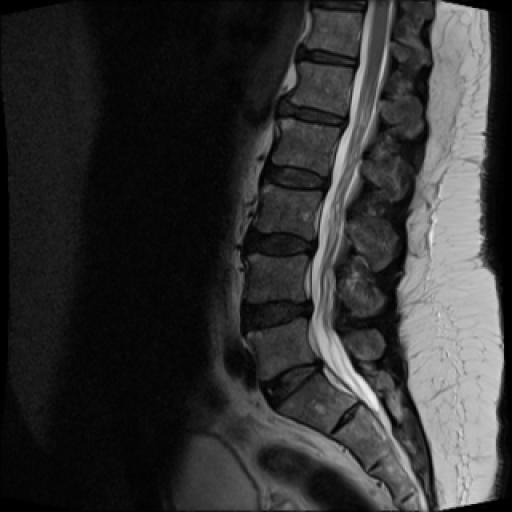L1: (288, 63, 353, 114)
L2: (272, 119, 340, 176)
L3: (256, 185, 321, 240)
L4: (248, 255, 306, 302)
L5: (248, 319, 316, 380)
S1: (278, 372, 353, 434)
